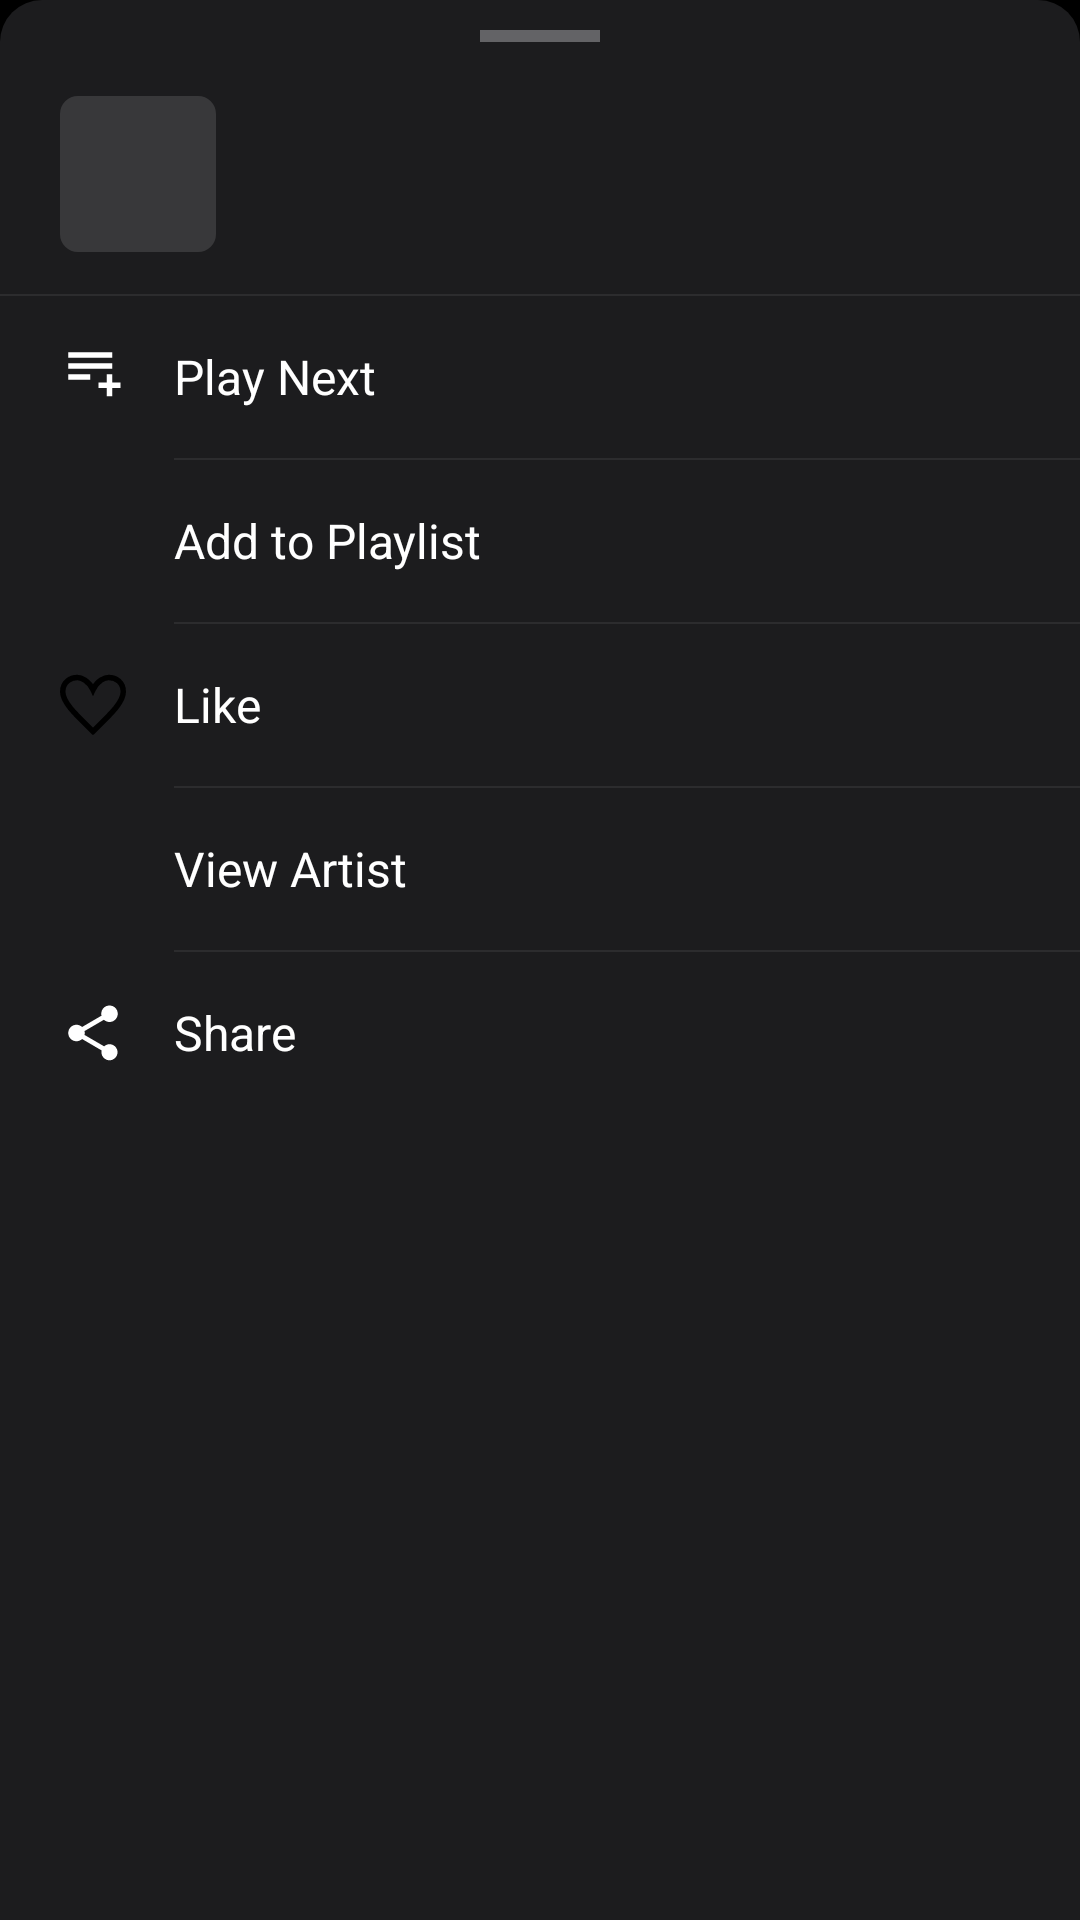

Locate icon controls on the screen. Image size 1080px x 1920px, boxes as (x1, y1, x2, y2).
heart: (60, 675, 126, 734)
queue: (68, 352, 121, 397)
